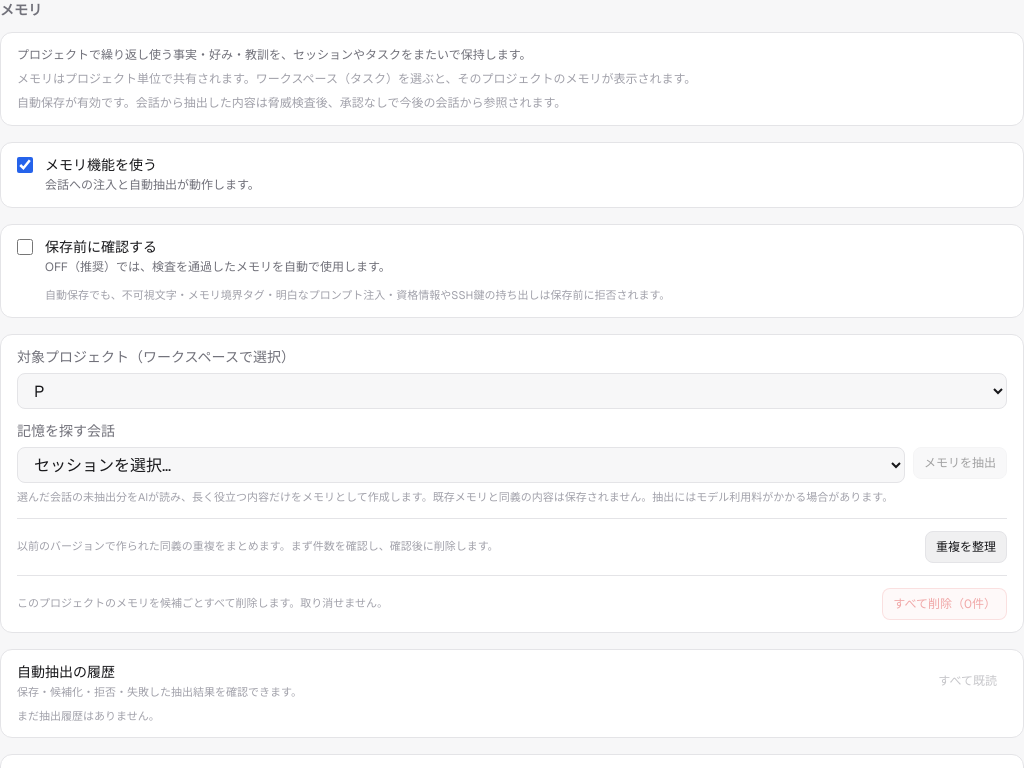
Test: MemorySettings › previews duplicates before deleting them and honours a cancel
Click the button "重複を整理": (966, 546) [925,530,1007,562]
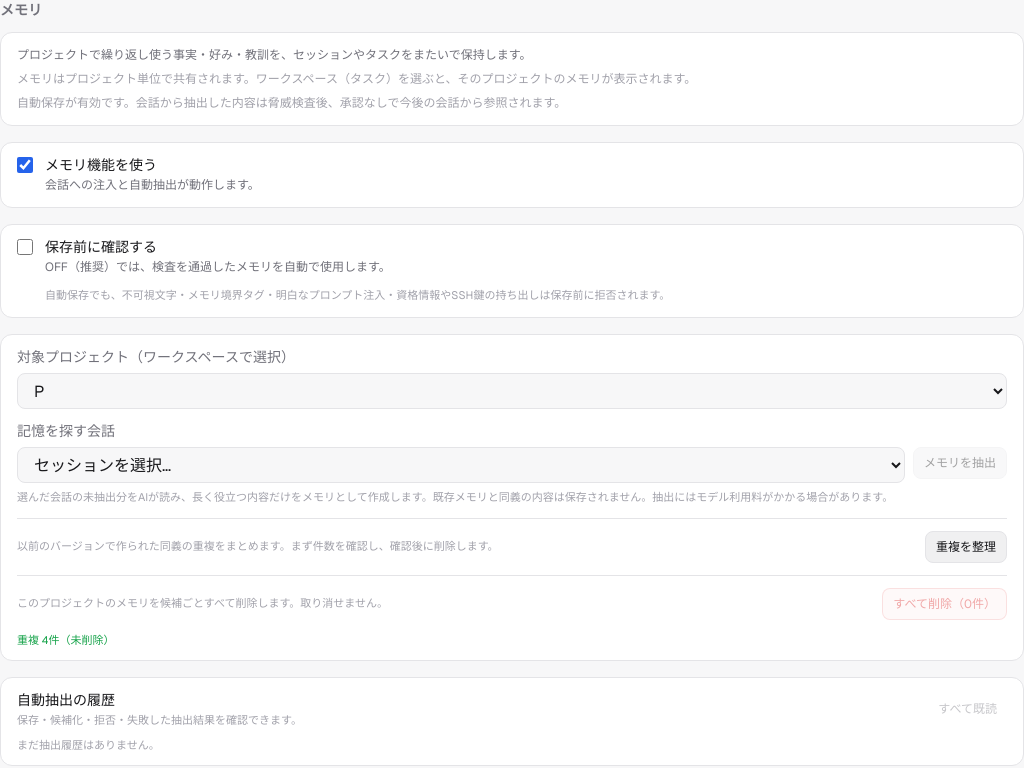
Result: the text "重複 4件（未削除）" is shown at [17,632,114,646]
